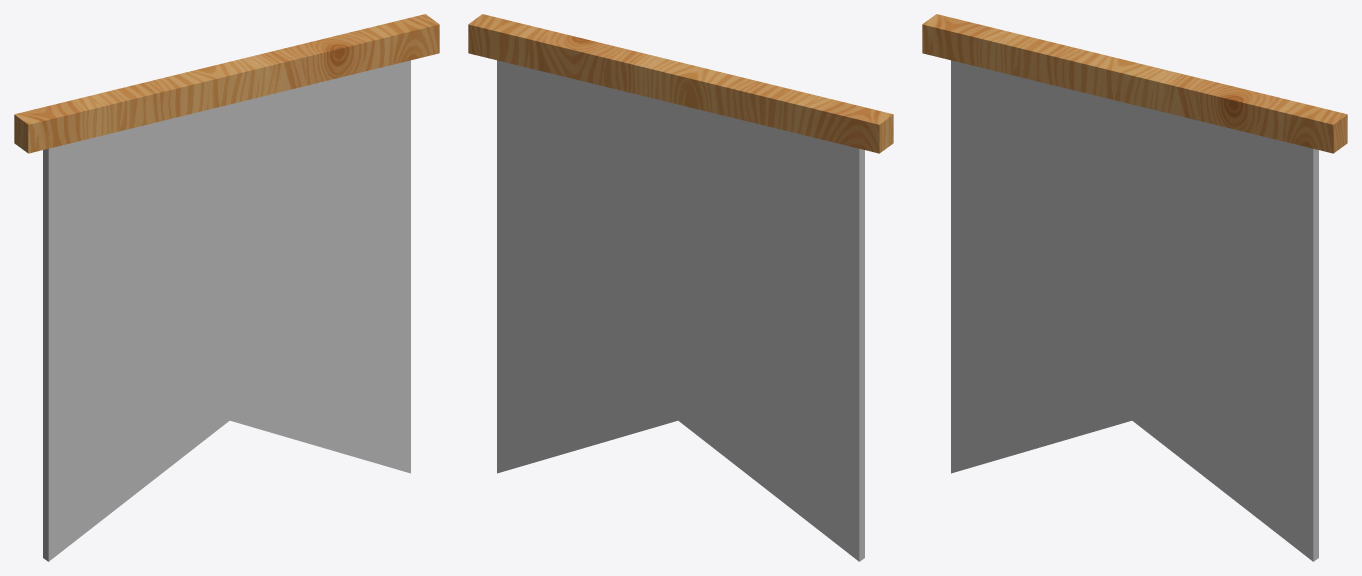
File: Picture_Hang_9.fbx
The picture shows the model from 3 angles, left to right: view 1: azimuth 30°, elevation 25°; view 2: azimuth 150°, elevation 25°; view 3: azimuth 330°, elevation 25°; orthographic projection.
Visible parts, largest first — view 1: Picture_Hang_9; view 2: Picture_Hang_9; view 3: Picture_Hang_9.
Part boxes in pixels (box(x1,y1,x2,y2)): Picture_Hang_9: box(14, 14, 439, 561); Picture_Hang_9: box(468, 14, 893, 561); Picture_Hang_9: box(922, 14, 1347, 561).
Bounding box in the file's own units: 54.59 × 56.6 × 3.29.
